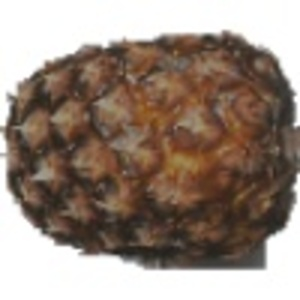abacaxi: (3, 19, 295, 283)
